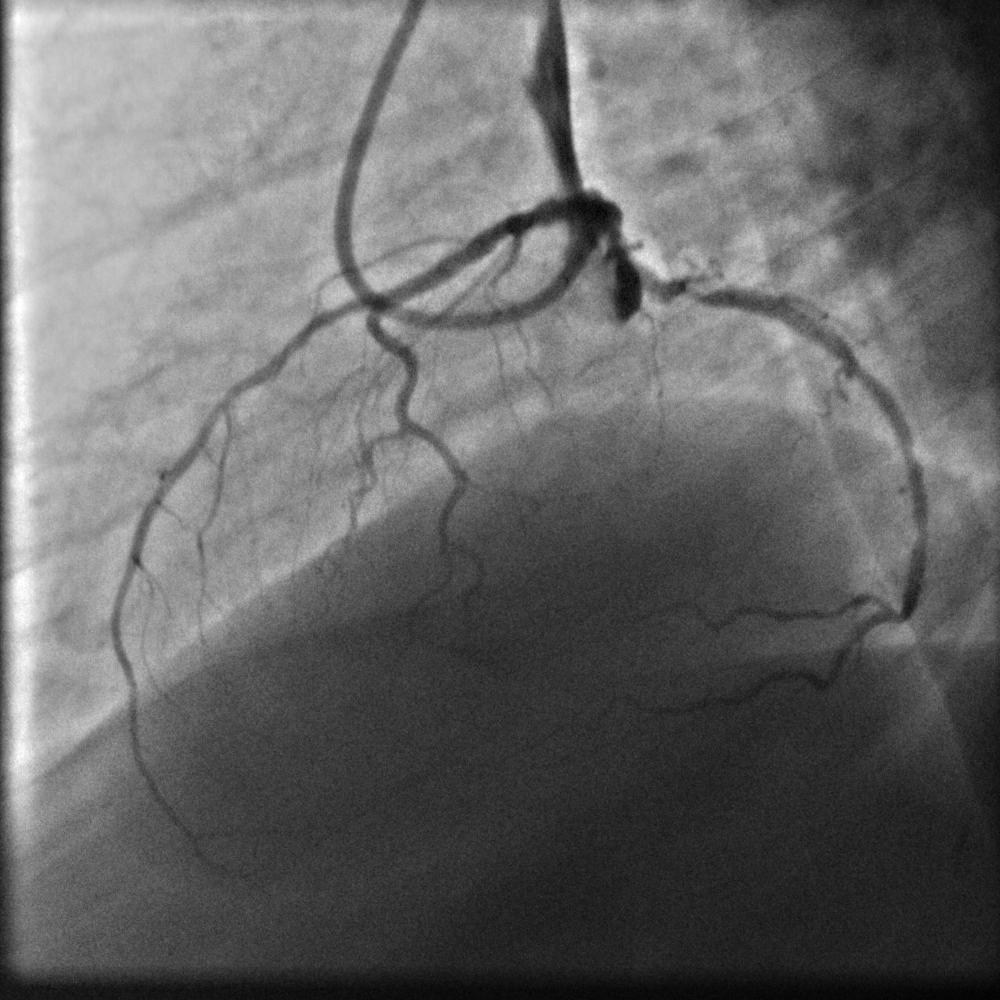Stenosis: (681, 277, 714, 304)
